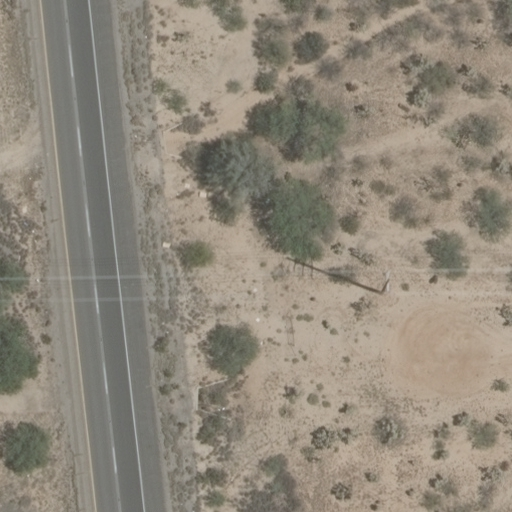DT: (376, 259, 400, 300)
